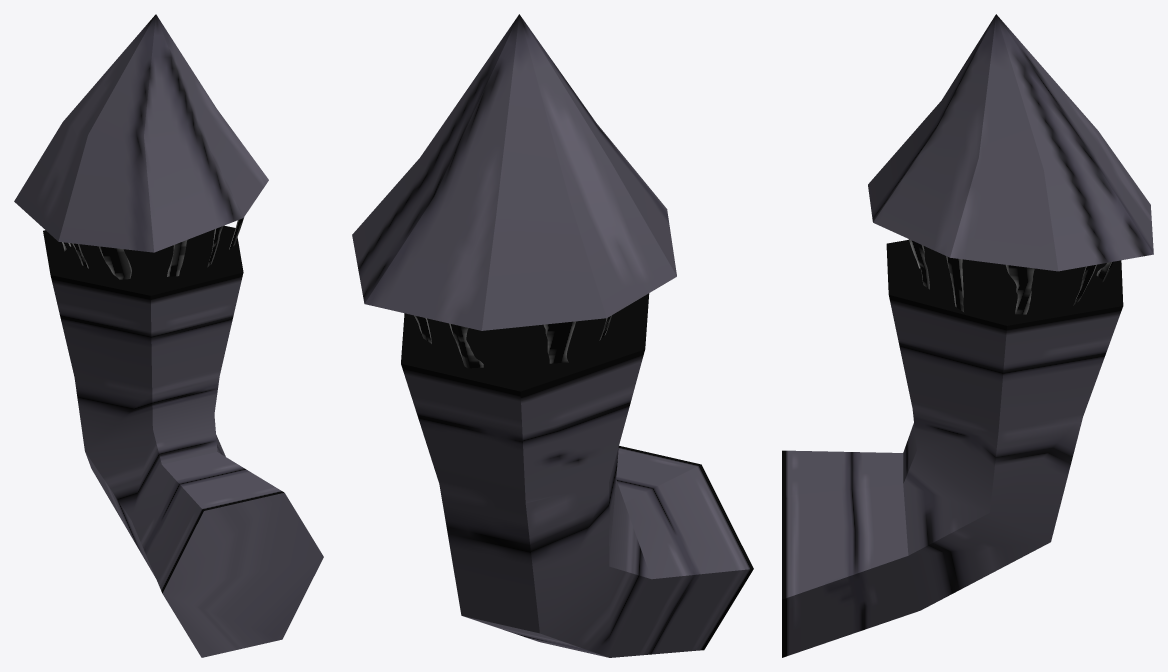
Rendered from komin2.fbx.
The picture shows the model from 3 angles, left to right: view 1: azimuth 30°, elevation 25°; view 2: azimuth 150°, elevation 25°; view 3: azimuth 270°, elevation 25°; orthographic projection. The views are drawn at different scales.
Visible parts, largest first — view 1: komin2; view 2: komin2; view 3: komin2.
Boxes of the visible parts, x1,y1,x2,y2 form: komin2: (14, 14, 323, 657); komin2: (352, 14, 753, 657); komin2: (782, 14, 1153, 657).
Bounding box in the file's own units: 67.29 × 168 × 90.08.
Materials: 1 (1 with a texture image).
